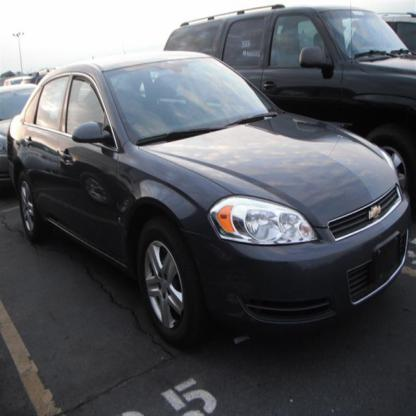Vehicle: (4, 46, 416, 355)
